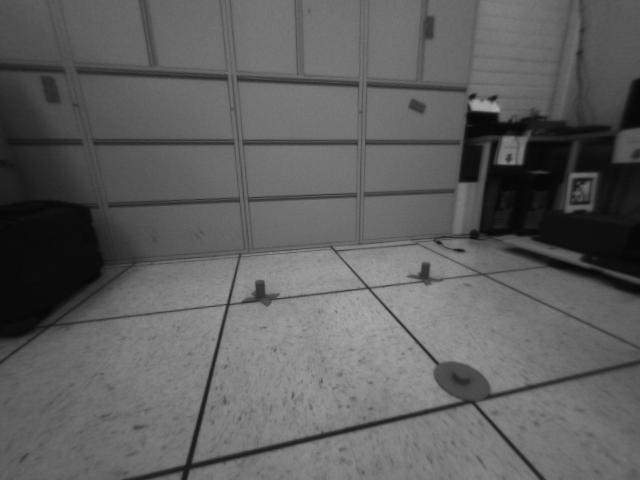X: (238, 279, 280, 307), (405, 260, 442, 287)
